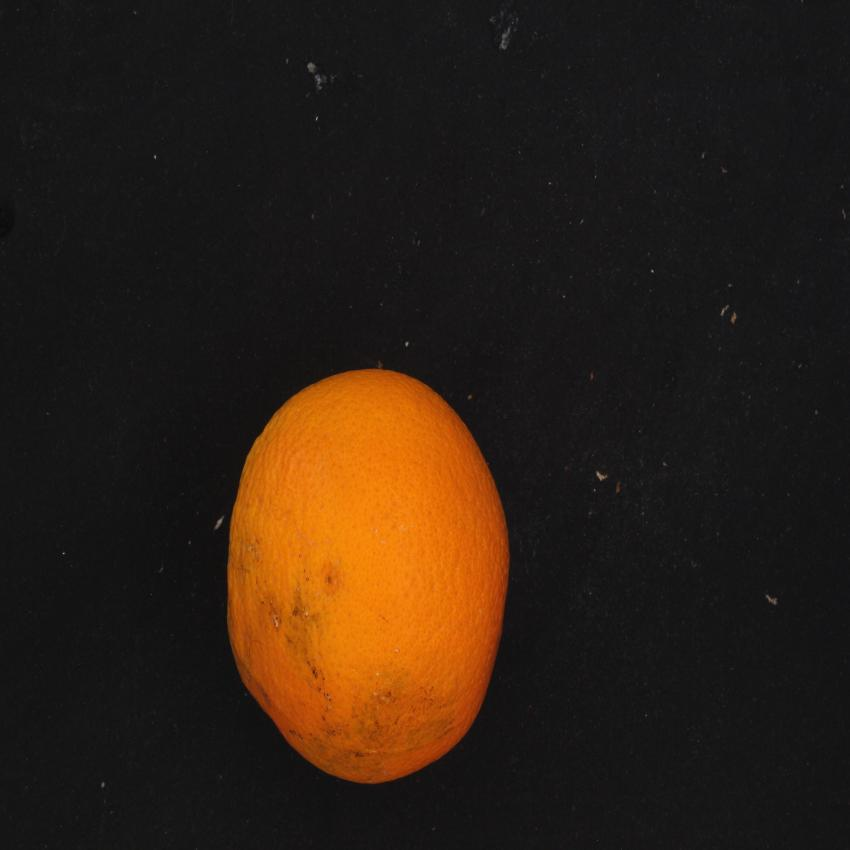Mal estado: (216, 348, 531, 792)
